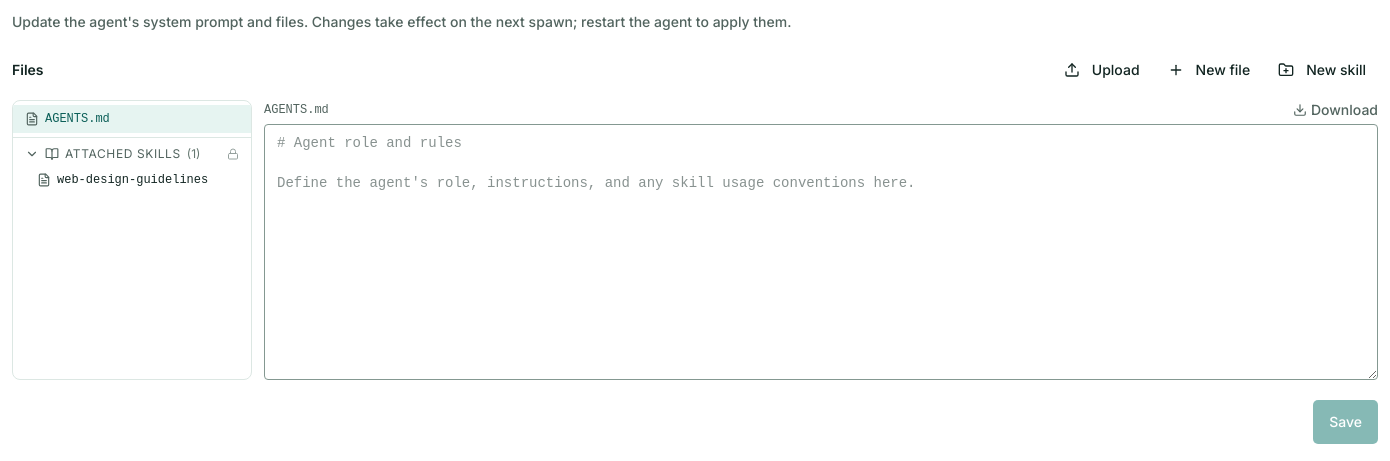
Test: ManifestPanel — attached library skills (Issue #133) › renders the attached skills section and loads SKILL.md on select
The width and height of the screenshot is (1390, 461).
Expected: the button with test id "agent-edit-upload" is shown, [1052, 48, 1152, 92]
Expected: the button with test id "agent-edit-attached-skills-toggle" is shown, [13, 142, 251, 166]
Click the button with test id "agent-edit-attached-skill-web-design-guidelines".
click(132, 180)  # box [13, 166, 251, 194]
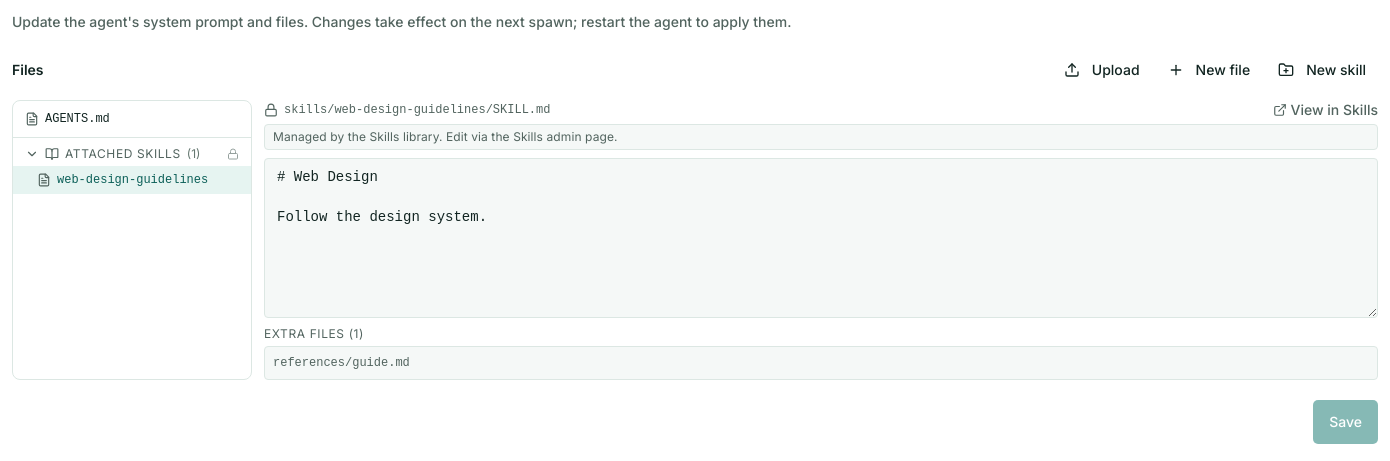
Expected: the button with test id "agent-edit-view-in-skills" is shown, [1272, 100, 1378, 120]
